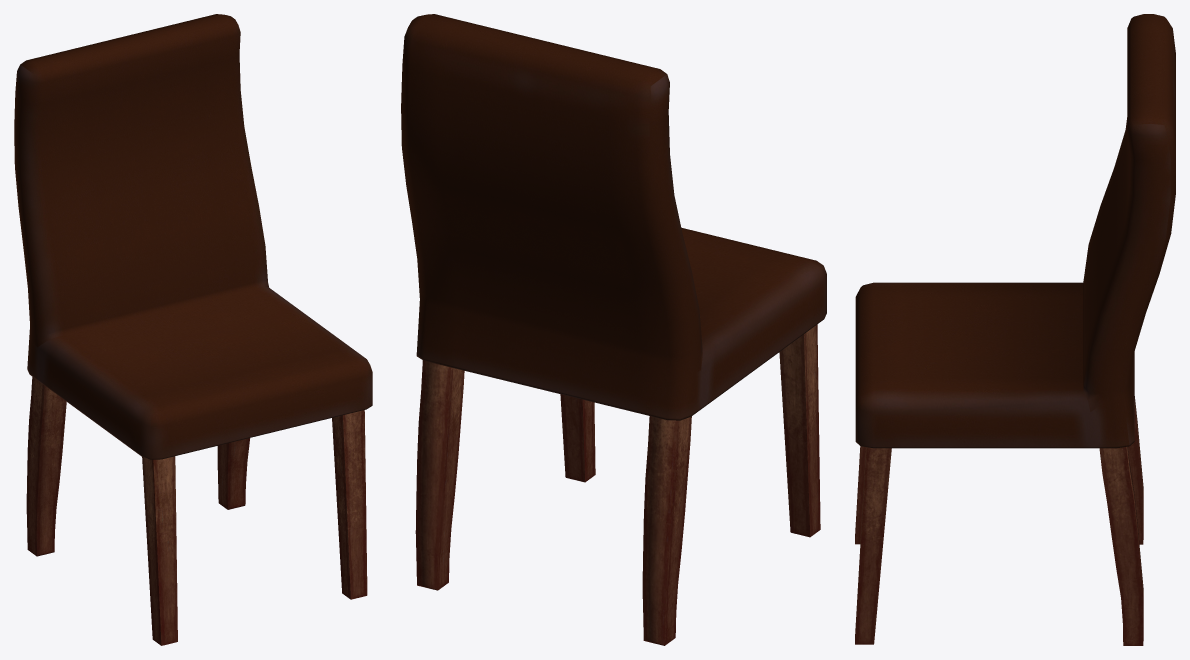
The model's file is chair (1).glb.
3 renders of one model, left to right at view 1: azimuth 30°, elevation 25°; view 2: azimuth 150°, elevation 25°; view 3: azimuth 270°, elevation 25°, orthographic. The views are drawn at different scales.
Visible parts, largest first — view 1: Cube; view 2: Cube; view 3: Cube.
Boxes of the visible parts, x1,y1,x2,y2 form: Cube: (14, 14, 372, 645); Cube: (401, 14, 826, 645); Cube: (855, 14, 1175, 645).
Bounding box in the file's own units: 0.9926 × 2 × 1.11.
1 material, 1 textured.
